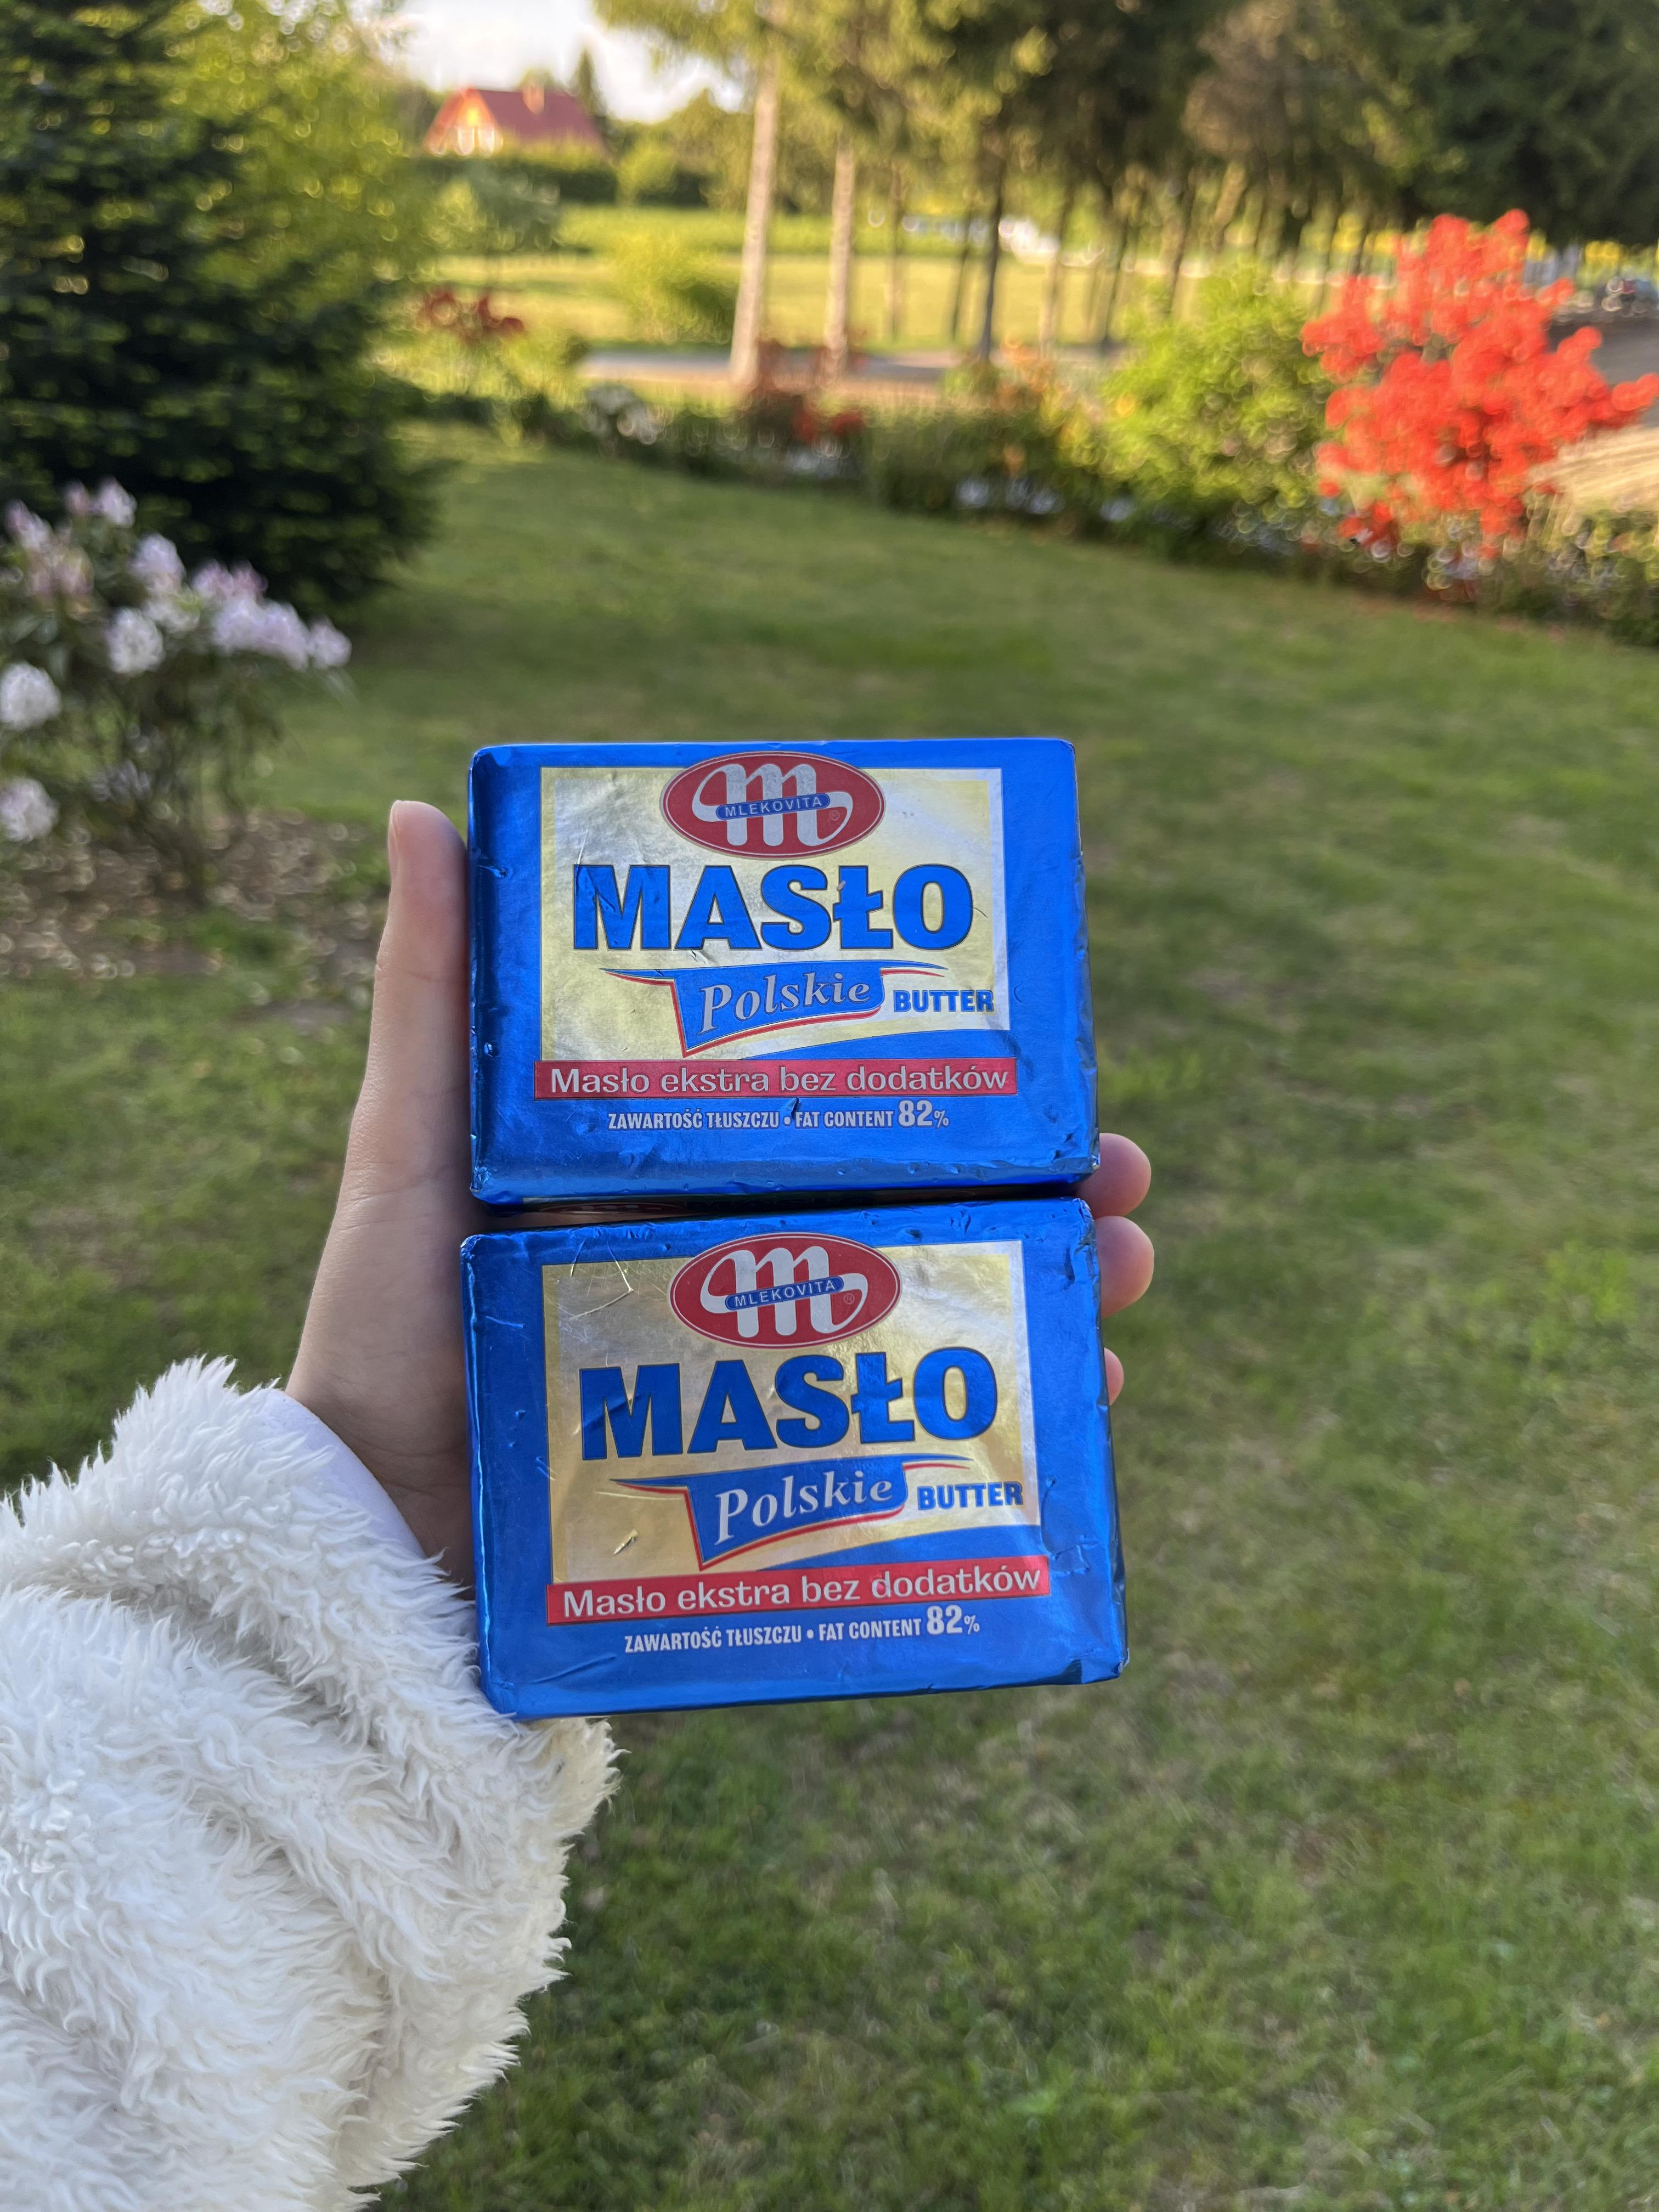Butter: (467, 1217, 1131, 1705), (477, 747, 1110, 1174)
